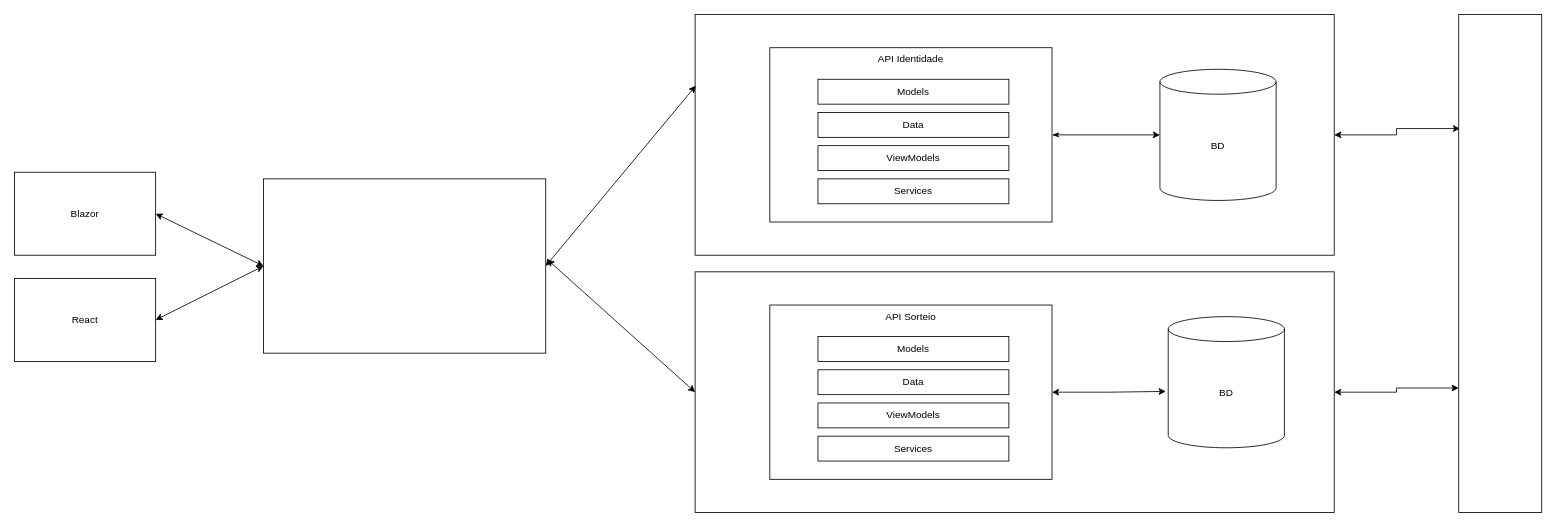
This 1556x527 diagram has some shape labels left out. Here are the shapes that lost their labels. From the top down, the box of each, then its label:
(263, 178, 546, 353): API Gateway
(1458, 14, 1542, 513): RabbitMQ
